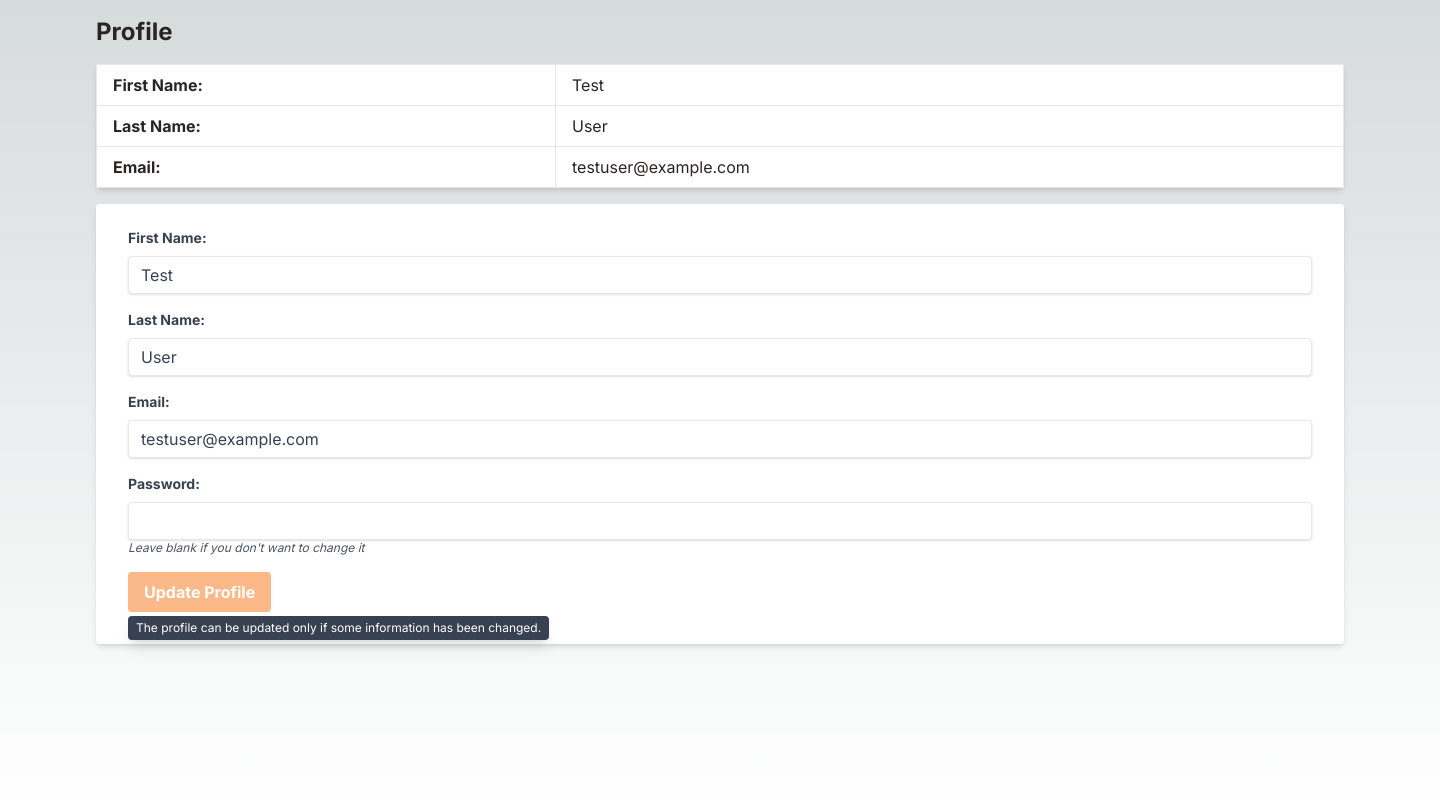
Scenario: Profile Page › updates user information successfully
The image size is (1440, 810).
Replace the text in the field labelled "First Name:" with "NewFirstName" at (720, 275), box x1=128 y1=256 x2=1312 y2=294
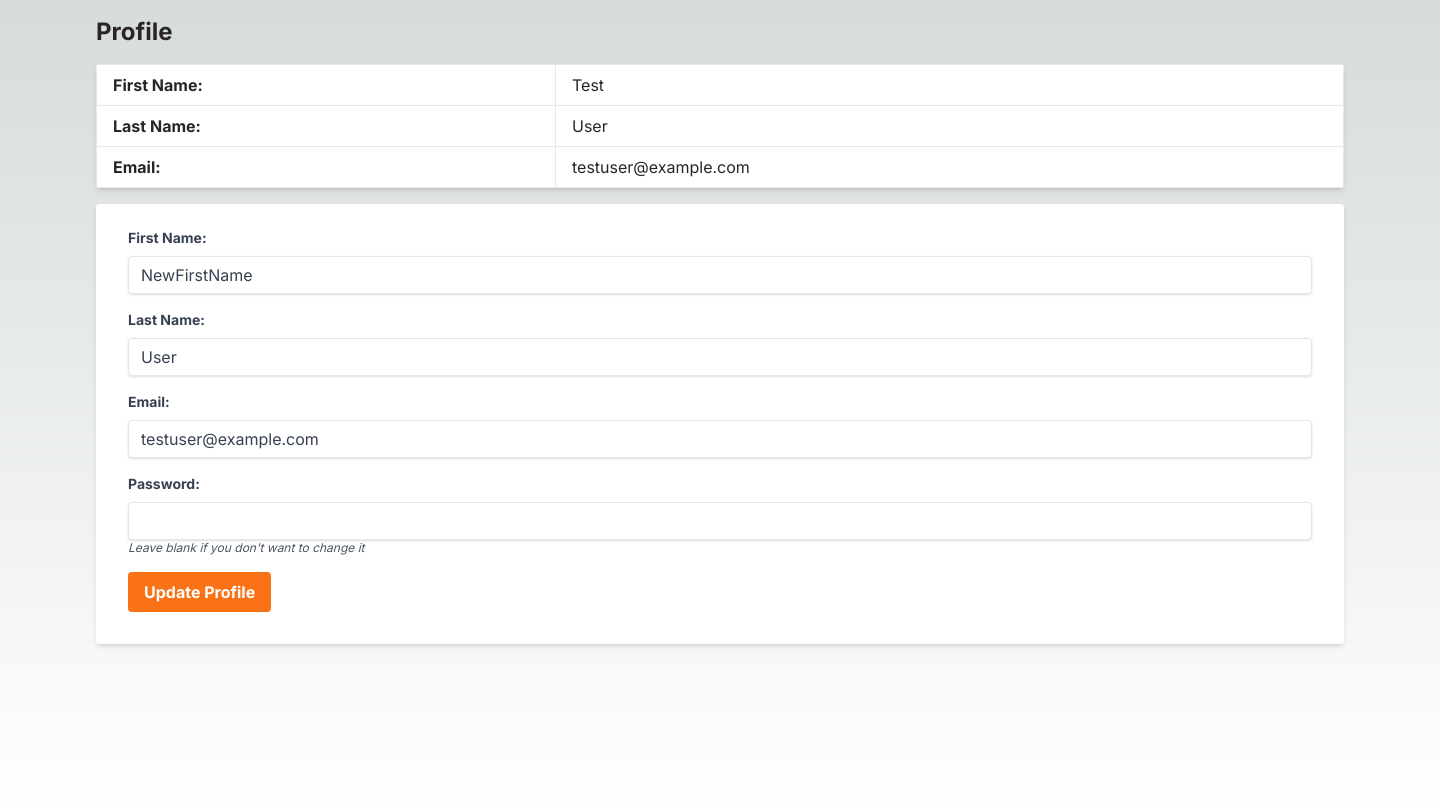
Replace the text in the field labelled "Last Name:" with "NewLastName" at (720, 357), box x1=128 y1=338 x2=1312 y2=376
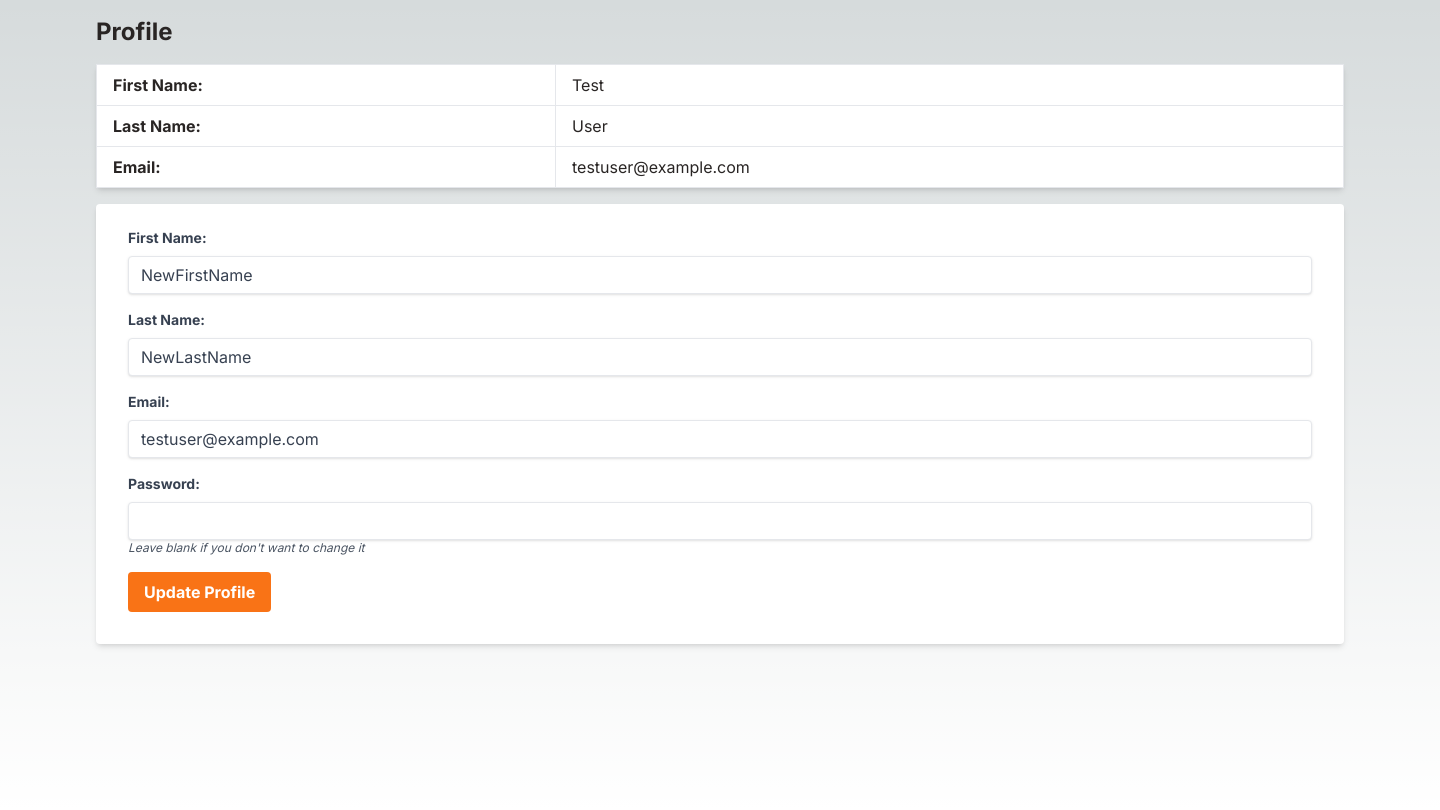
Replace the text in the field labelled "Email:" with "newemail@example.com" at (720, 439), box x1=128 y1=420 x2=1312 y2=458
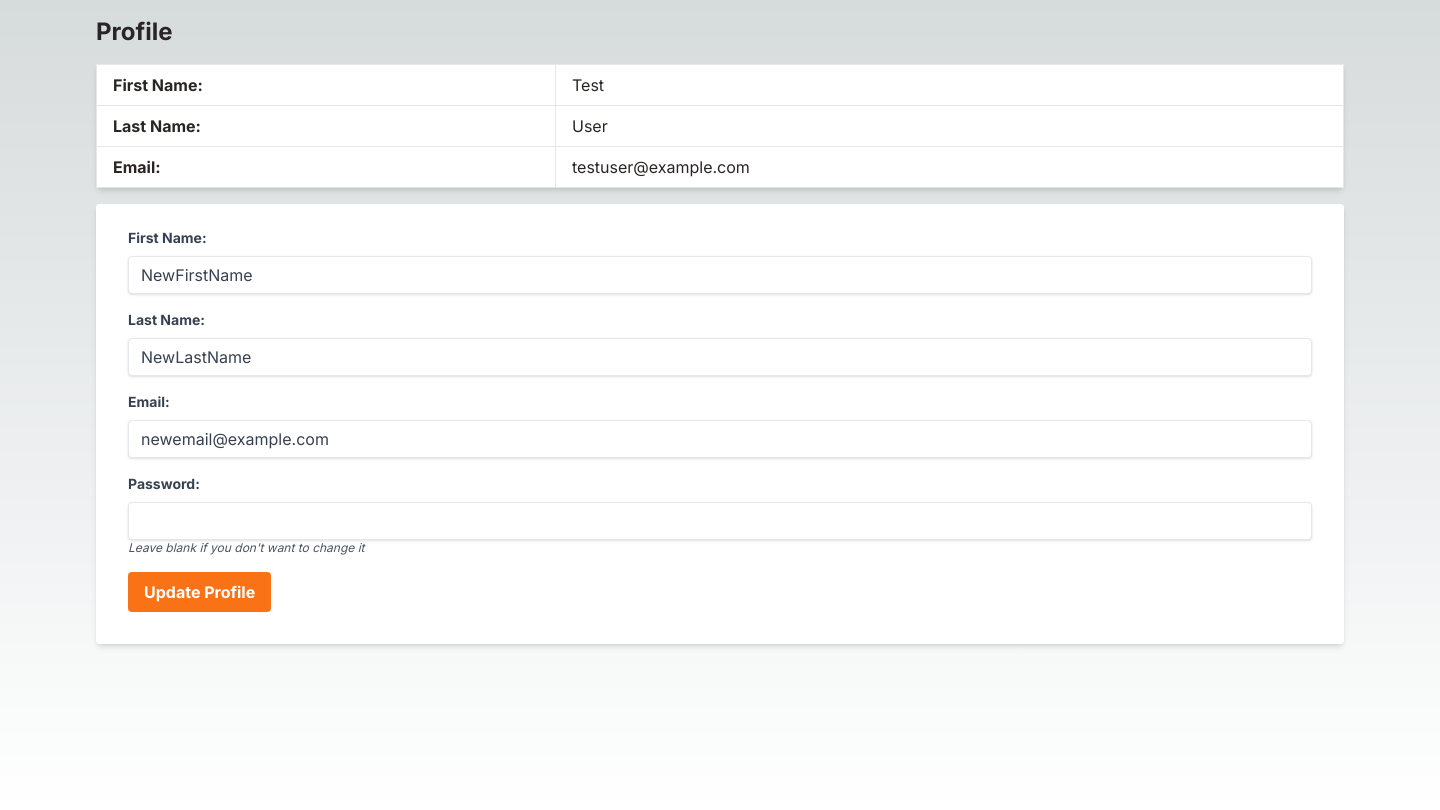
expect the button "Update Profile" is enabled: met
Click the button "Update Profile" at (200, 592), box x1=128 y1=572 x2=271 y2=612
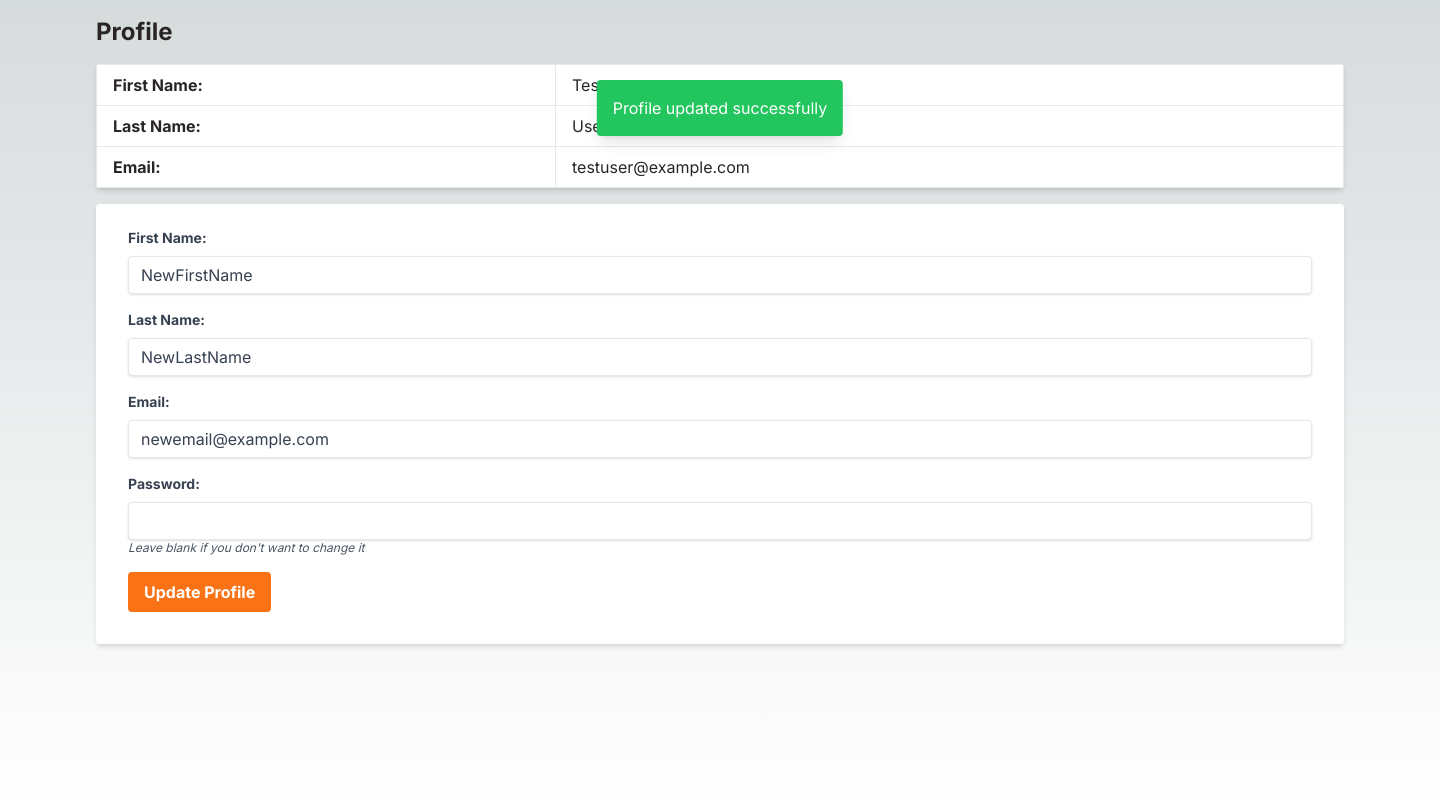
expect the text "Profile updated successfully" is shown: met, box x1=597 y1=80 x2=843 y2=136
